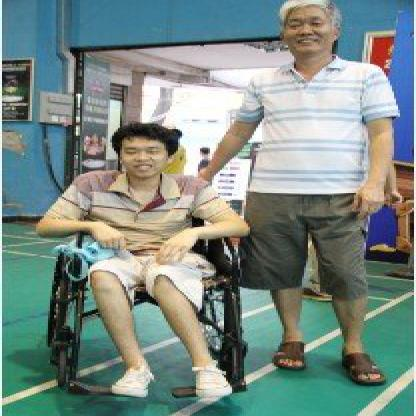wheelchair: (30, 118, 254, 401)
